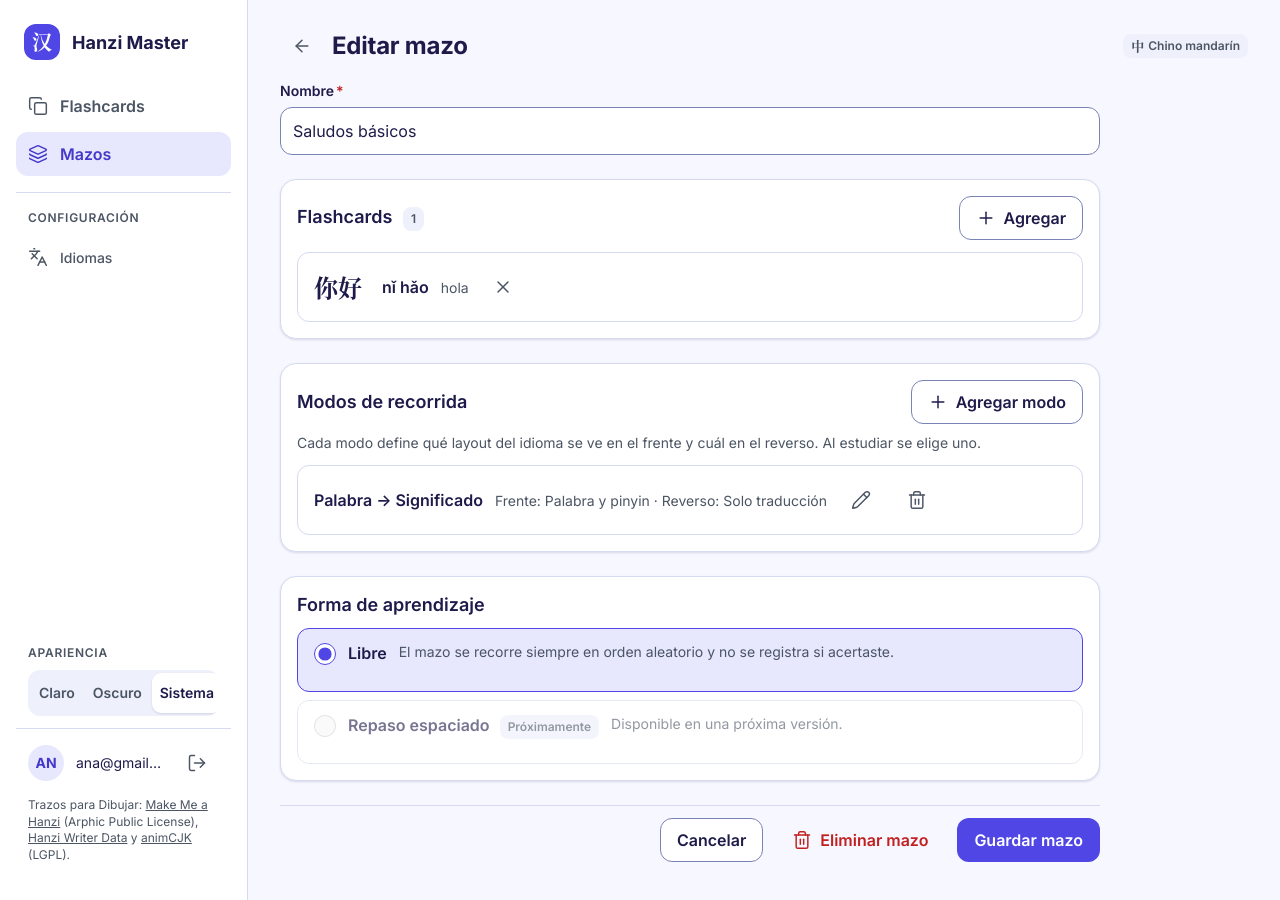
Test case: E1 · Layout Dibujar en el selector de los modos de recorrida › un modo nuevo no propone Dibujar por defecto
The image size is (1280, 900).
Click the button "Agregar modo". click: (997,402)
box: [911,380,1083,424]
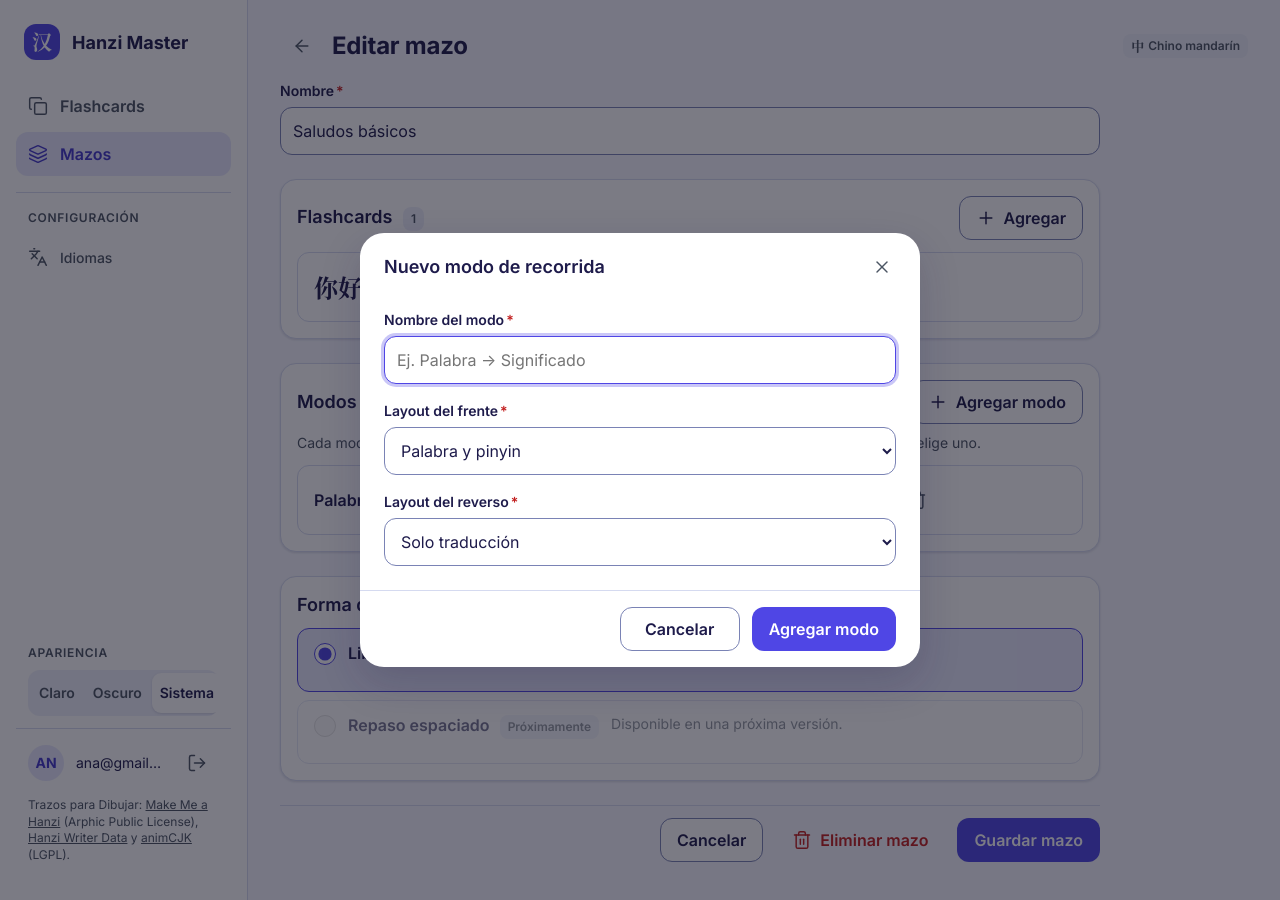
Check: the dropdown labelled "Layout del frente*" shows "Palabra y pinyin", box [384,427,896,475]
Check: the dropdown labelled "Layout del reverso*" shows "Solo traducción", box [384,518,896,566]
